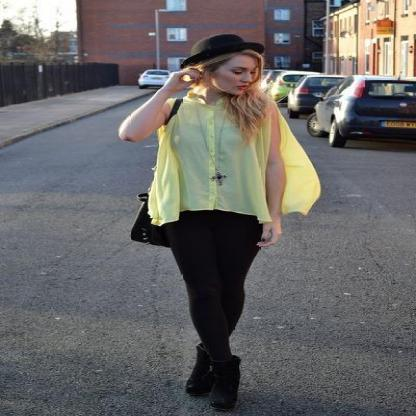hat: (180, 35, 262, 74)
pants: (159, 209, 262, 365)
shirt: (148, 91, 319, 224)
shoe: (189, 364, 239, 394)
